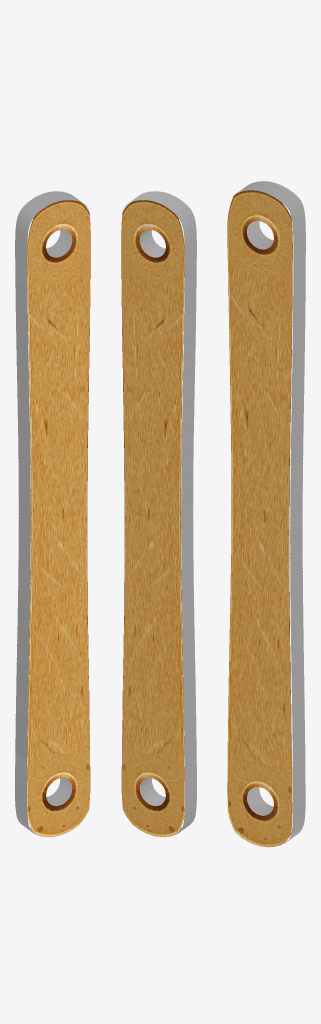
Rendered from UpperLeg.glb.
3 views of the same model, side by side, from view 1: azimuth 30°, elevation 25°; view 2: azimuth 150°, elevation 25°; view 3: azimuth 330°, elevation 25° (orthographic). The views are drawn at different scales.
Visible parts, largest first — view 1: PaperVolume; view 2: PaperVolume; view 3: PaperVolume.
Part boxes in pixels (left/top/right/bottom): PaperVolume: left=15, top=191, right=90, bottom=837; PaperVolume: left=121, top=191, right=196, bottom=837; PaperVolume: left=227, top=181, right=305, bottom=847.
Size of the model in its own units: 0.25 by 3.54 by 0.08.
Materials: 3 (2 with a texture image).
